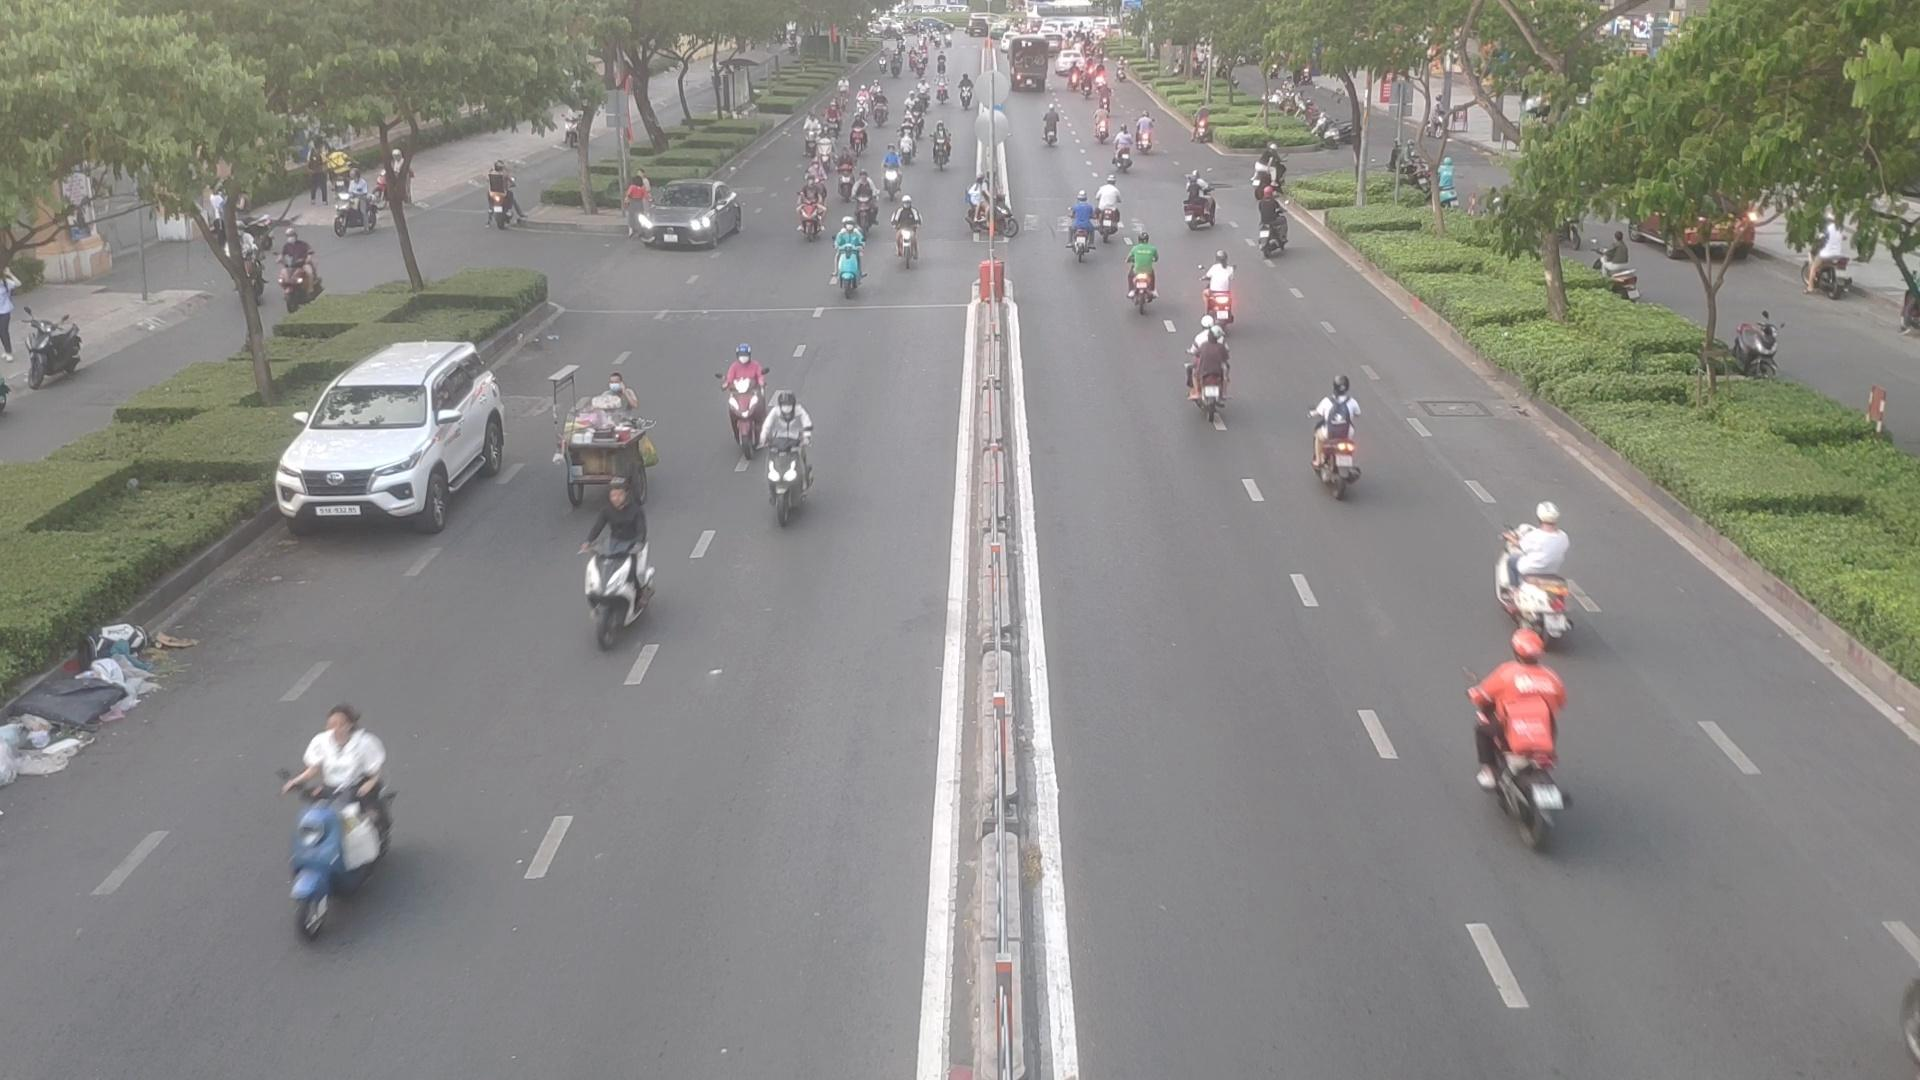car: (280, 338, 522, 526), (622, 186, 750, 255)
motorbike: (272, 707, 394, 931), (1460, 655, 1582, 844), (578, 502, 669, 632), (746, 392, 824, 525), (1487, 508, 1575, 624), (1307, 382, 1374, 493), (1185, 324, 1246, 419), (717, 347, 774, 442), (829, 220, 876, 295), (1124, 237, 1166, 314), (1201, 251, 1245, 324), (1062, 195, 1102, 262), (1258, 200, 1300, 261), (1178, 178, 1217, 229), (1084, 187, 1120, 244), (796, 189, 831, 243), (1108, 133, 1134, 171)
